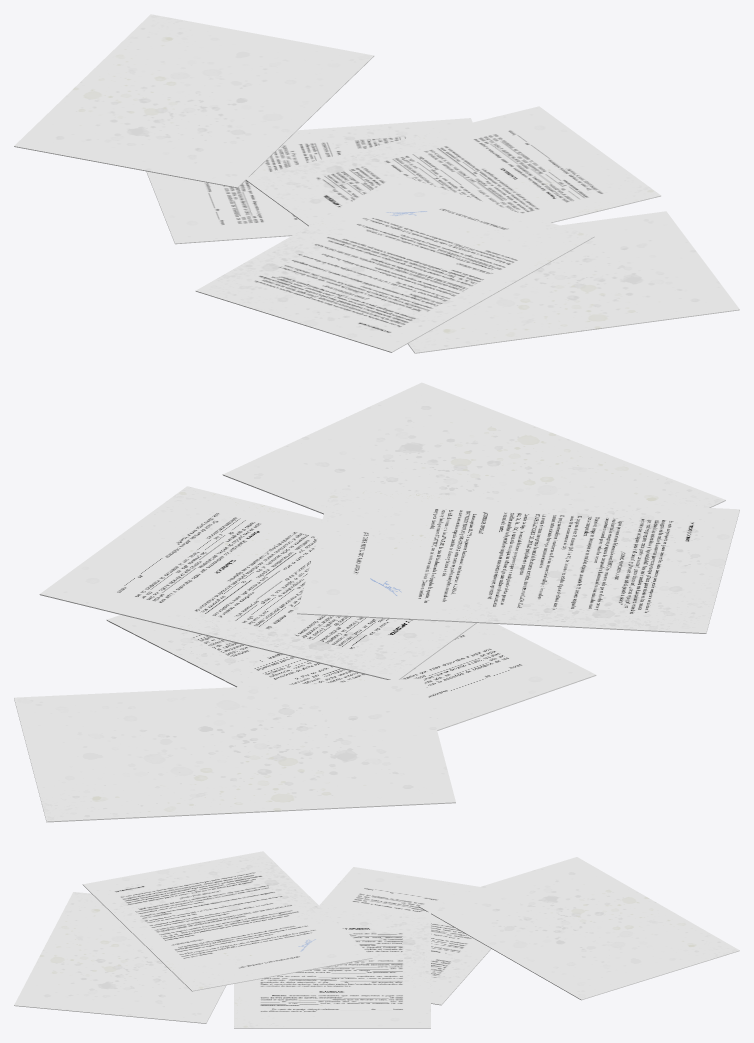
The model's file is Monton Documentos B.fbx.
3 renders of one model, top to bottom at view 1: azimuth 30°, elevation 25°; view 2: azimuth 150°, elevation 25°; view 3: azimuth 270°, elevation 25°, orthographic. The views are drawn at different scales.
Parts seen in each view (by area): view 1: Cube.001, Cube.003, Cube, Cube.002, Cube.004; view 2: Cube.003, Cube.001, Cube, Cube.002, Cube.004; view 3: Cube.003, Cube.001, Cube, Cube.002, Cube.004.
Part boxes in pixels (left/top/right/bottom): Cube.001: left=195, top=175, right=594, bottom=352; Cube.003: left=14, top=14, right=374, bottom=188; Cube: left=246, top=106, right=660, bottom=226; Cube.002: left=408, top=211, right=739, bottom=353; Cube.004: left=146, top=118, right=472, bottom=244; Cube.003: left=14, top=678, right=455, bottom=822; Cube.001: left=297, top=489, right=739, bottom=633; Cube: left=39, top=486, right=476, bottom=679; Cube.002: left=222, top=382, right=725, bottom=514; Cube.004: left=106, top=615, right=596, bottom=730; Cube.003: left=418, top=857, right=739, bottom=1000; Cube.001: left=82, top=851, right=372, bottom=991; Cube: left=234, top=912, right=430, bottom=1028; Cube.002: left=14, top=892, right=226, bottom=1023; Cube.004: left=319, top=867, right=491, bottom=1005.
Size of the model in its own units: 403 by 2.58 by 702.
